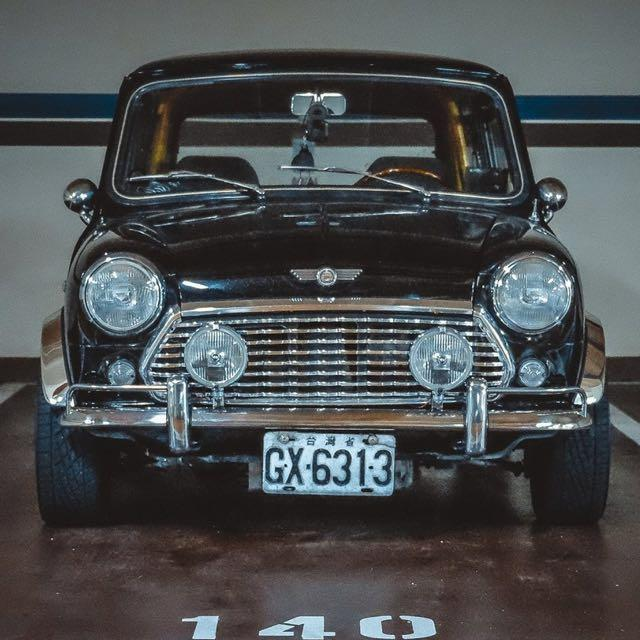plate: (263, 431, 395, 496)
